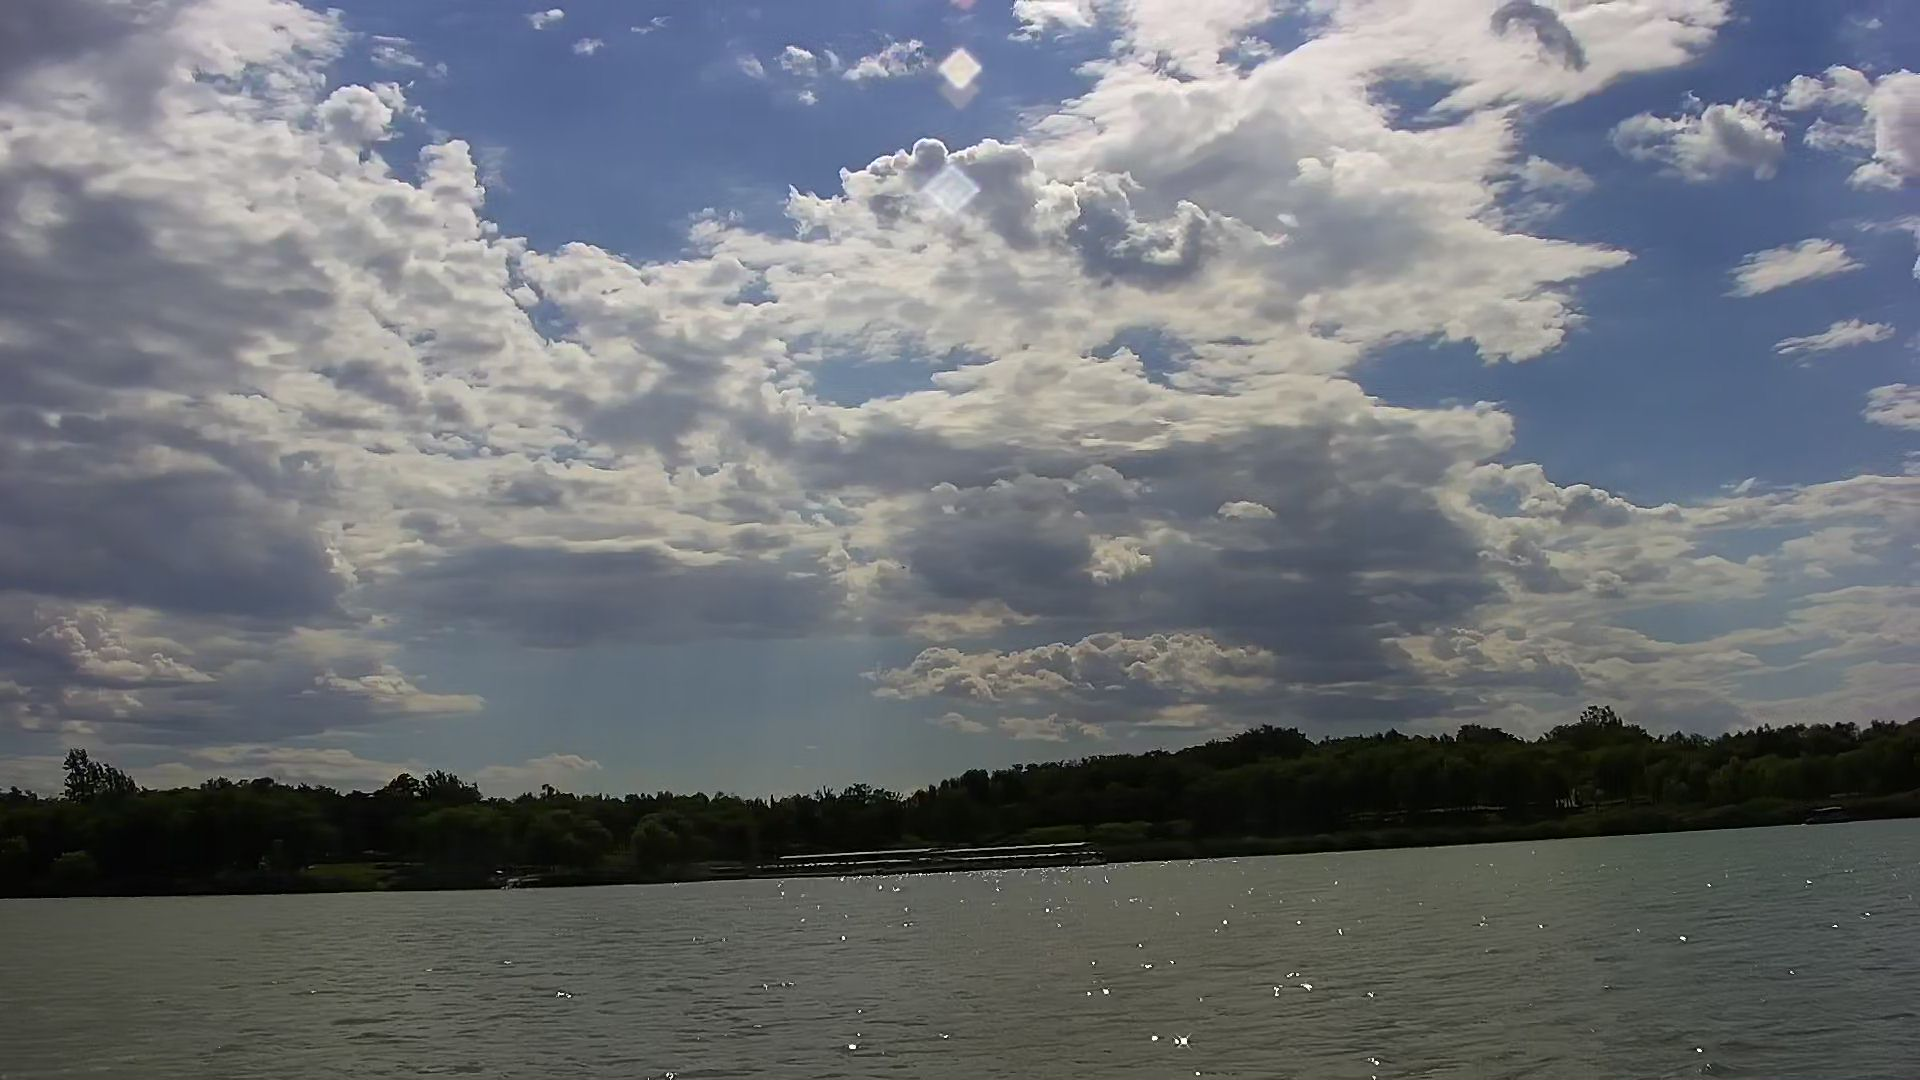harbor: (758, 835, 1097, 880)
